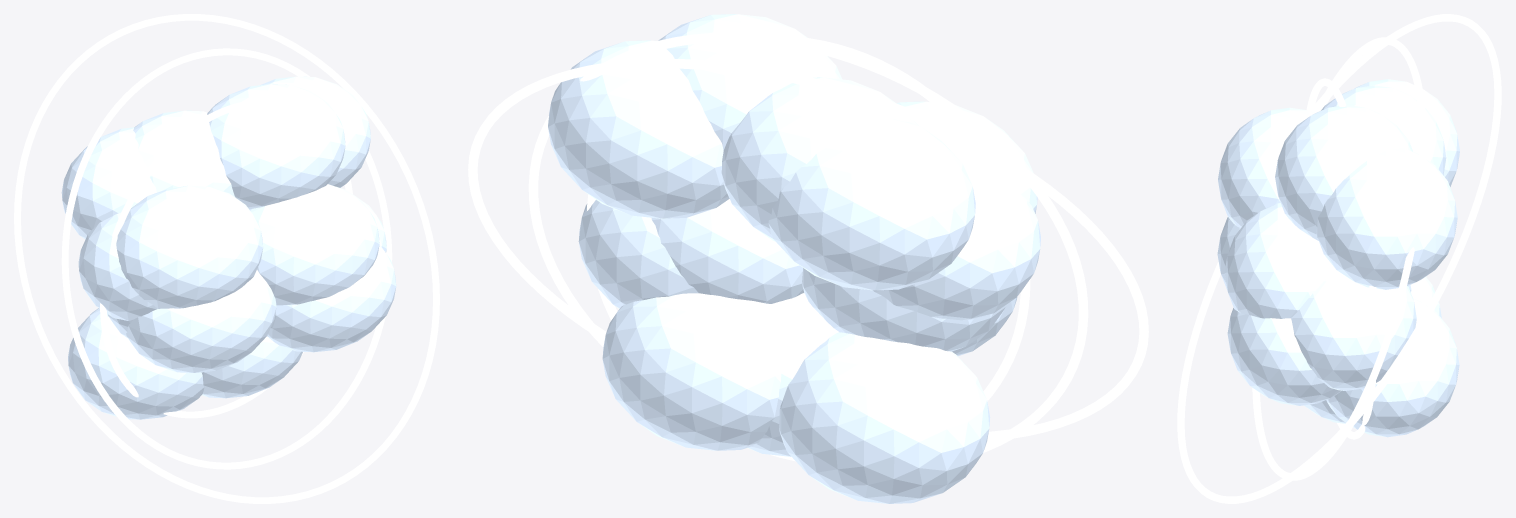
File: dust.glb
3 renders of one model, left to right at view 1: azimuth 30°, elevation 25°; view 2: azimuth 150°, elevation 25°; view 3: azimuth 270°, elevation 25°, orthographic. The views are drawn at different scales.
Parts seen in each view (by area): view 1: dust_part_001, dust_part_011, dust_part_008, dust_part_017, dust_part_012, dust_part_016, dust_part_007, dust_part_005, dust_part_014, dust_part_006, dust_part_009, dust_part_002 (+2 smaller); view 2: dust_part_007, dust_part_014, dust_part_010, dust_part_003, dust_part_017, dust_part_006, dust_part_009, dust_part_016, dust_part_000, dust_part_011, dust_part_013, dust_part_004 (+3 smaller); view 3: dust_part_003, dust_part_013, dust_part_011, dust_part_008, dust_part_017, dust_part_010, dust_part_005, dust_part_001, dust_part_016, dust_part_006, dust_part_014, dust_part_015 (+3 smaller).
Boxes of the visible parts, x1,y1,x2,y2 form: dust_part_001: (116, 185, 263, 308); dust_part_011: (207, 84, 345, 209); dust_part_008: (250, 184, 379, 305); dust_part_017: (14, 14, 439, 503); dust_part_012: (126, 270, 276, 372); dust_part_016: (61, 48, 392, 469); dust_part_007: (68, 308, 204, 419); dust_part_005: (267, 245, 396, 352); dust_part_014: (61, 127, 156, 239); dust_part_006: (133, 110, 235, 197); dust_part_009: (78, 213, 157, 320); dust_part_002: (201, 336, 302, 398); dust_part_007: (779, 332, 990, 503); dust_part_014: (768, 119, 975, 290); dust_part_010: (602, 293, 781, 450); dust_part_003: (548, 40, 729, 218); dust_part_017: (468, 58, 1148, 440); dust_part_006: (721, 77, 918, 241); dust_part_009: (873, 174, 1040, 320); dust_part_016: (528, 32, 1088, 452); dust_part_000: (651, 199, 803, 303); dust_part_011: (658, 14, 841, 150); dust_part_013: (578, 200, 698, 308); dust_part_004: (802, 268, 1006, 351); dust_part_003: (1316, 148, 1457, 289); dust_part_013: (1291, 274, 1416, 390); dust_part_011: (1275, 105, 1412, 240); dust_part_008: (1224, 203, 1332, 318); dust_part_017: (1177, 14, 1501, 503); dust_part_010: (1326, 298, 1459, 437); dust_part_005: (1227, 308, 1341, 405); dust_part_001: (1218, 107, 1314, 228); dust_part_016: (1252, 37, 1426, 480); dust_part_006: (1321, 85, 1446, 175); dust_part_014: (1355, 79, 1459, 186); dust_part_015: (1306, 78, 1377, 439).
Bounding box in the file's own units: 2.65 × 2.22 × 1.6.
